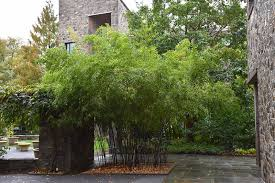bamboo: (46, 39, 240, 136), (91, 51, 173, 173)
